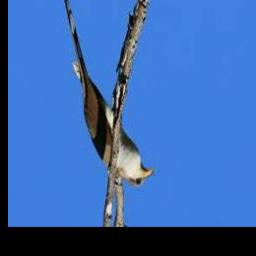Cuckoo: (64, 0, 155, 189)
